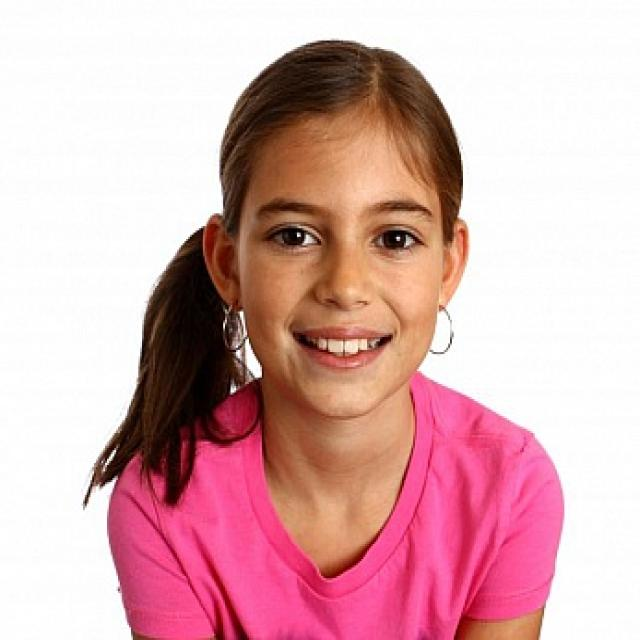Eyes: (260, 206, 427, 265)
